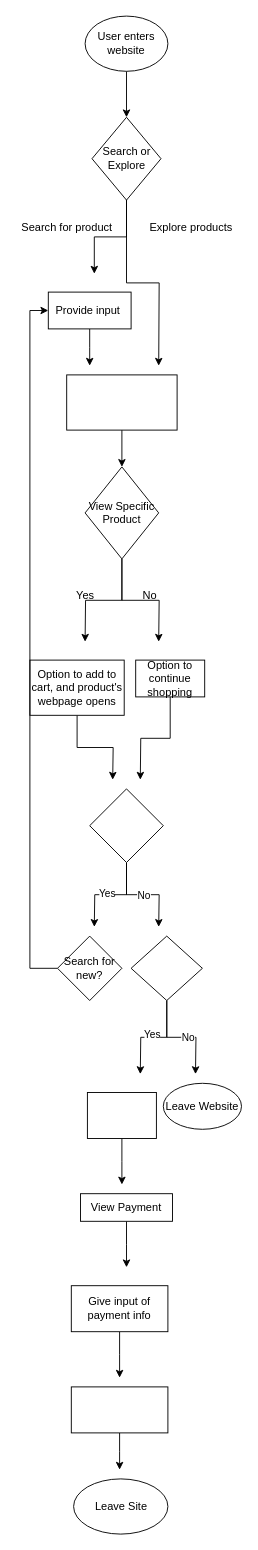
Some shapes in this 258 by 1550 pixel diagram are drawn without their labels. The shapes that lost their labels are listed below. From the top down, each one's centre as x and y in pixels, then its label:
point (121, 402): look over products
point (126, 825): Continue Shopping?
point (166, 967): Checkout?
point (121, 1115): Reach View Cart
point (119, 1409): Order confirmation/email
